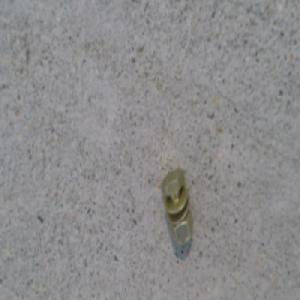BoltNutSet: (164, 165, 196, 244)
